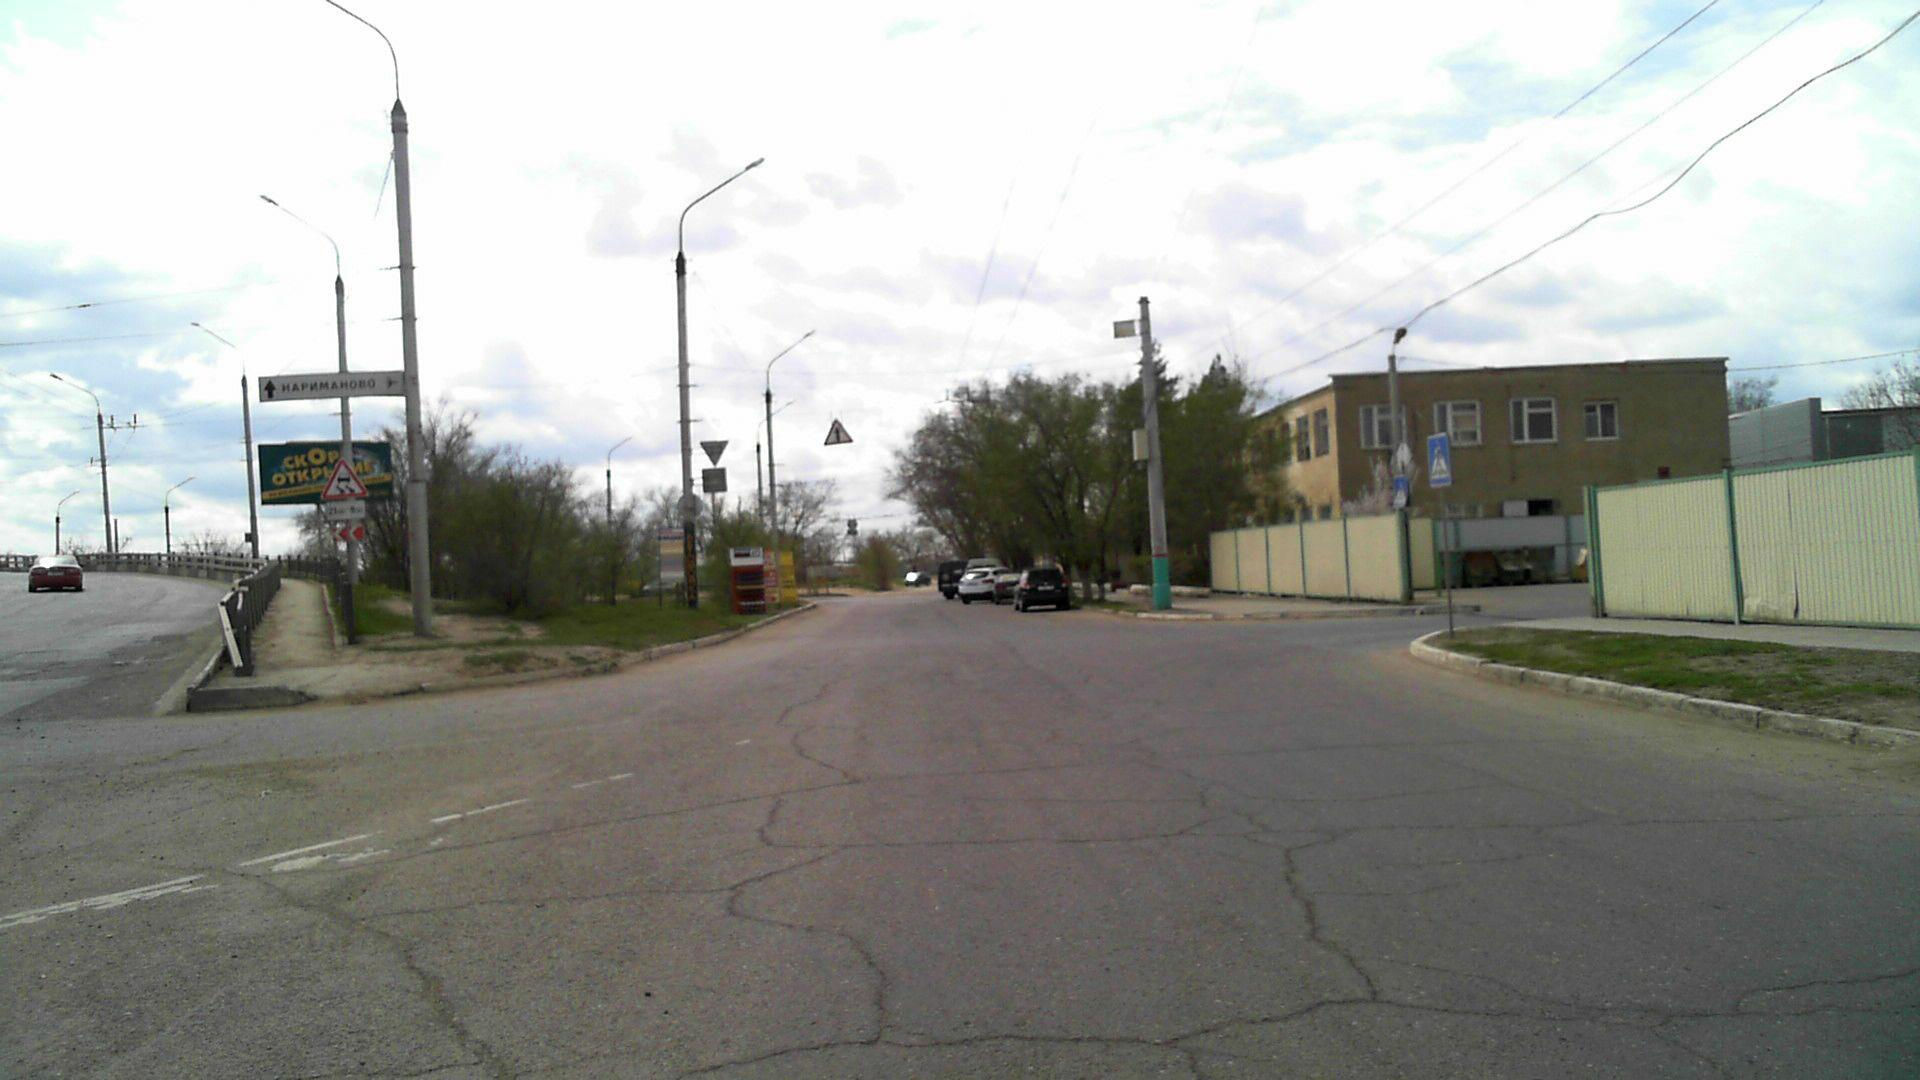1_15: (322, 458, 368, 500)
1_34_2: (331, 526, 368, 543)
2_3_1: (824, 419, 853, 444)
5_19_1: (1425, 434, 1455, 487)
5_19_2: (1391, 479, 1408, 508)
6_10_1: (257, 373, 407, 401)
8_5_4: (326, 501, 368, 521)
